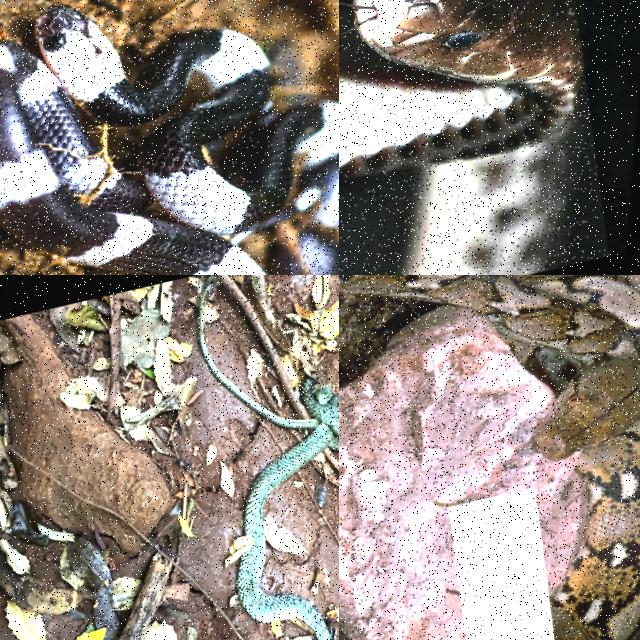Bungarus candidus: (0, 6, 338, 274)
Chrysopelea ornata: (198, 275, 338, 639)
Malayopython reticulatus: (339, 275, 639, 639)
Naja siamensis: (339, 0, 581, 274)
